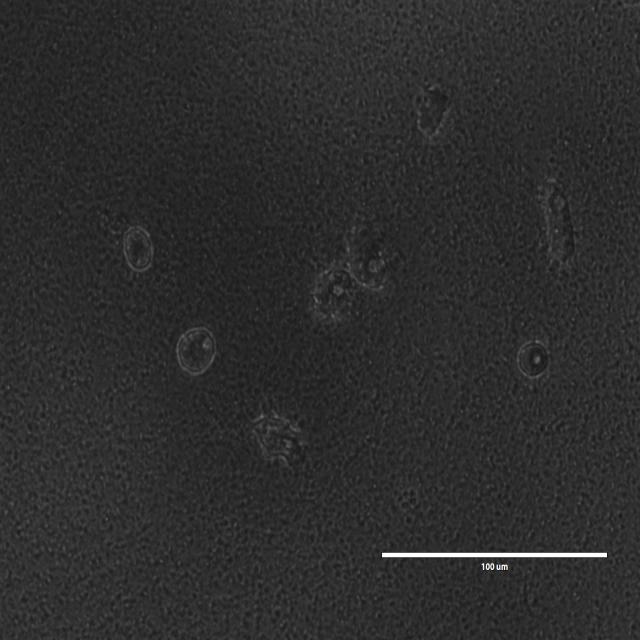Amoeba: (155, 241, 460, 640), (345, 228, 408, 290), (540, 181, 575, 270), (313, 264, 354, 320), (414, 82, 453, 138), (122, 220, 156, 273), (180, 328, 216, 373), (519, 336, 548, 381)
